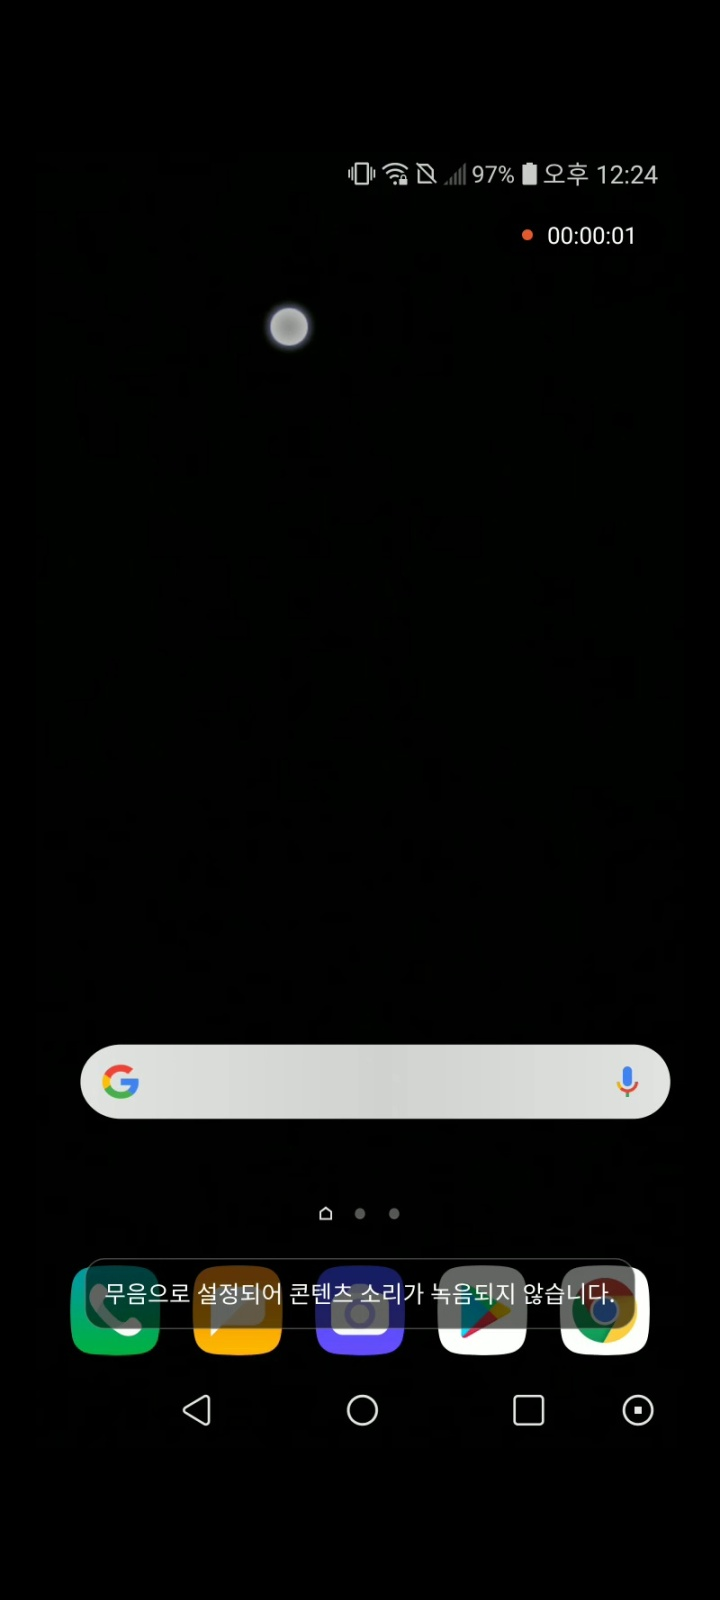Cursor: (267, 305, 312, 350)
